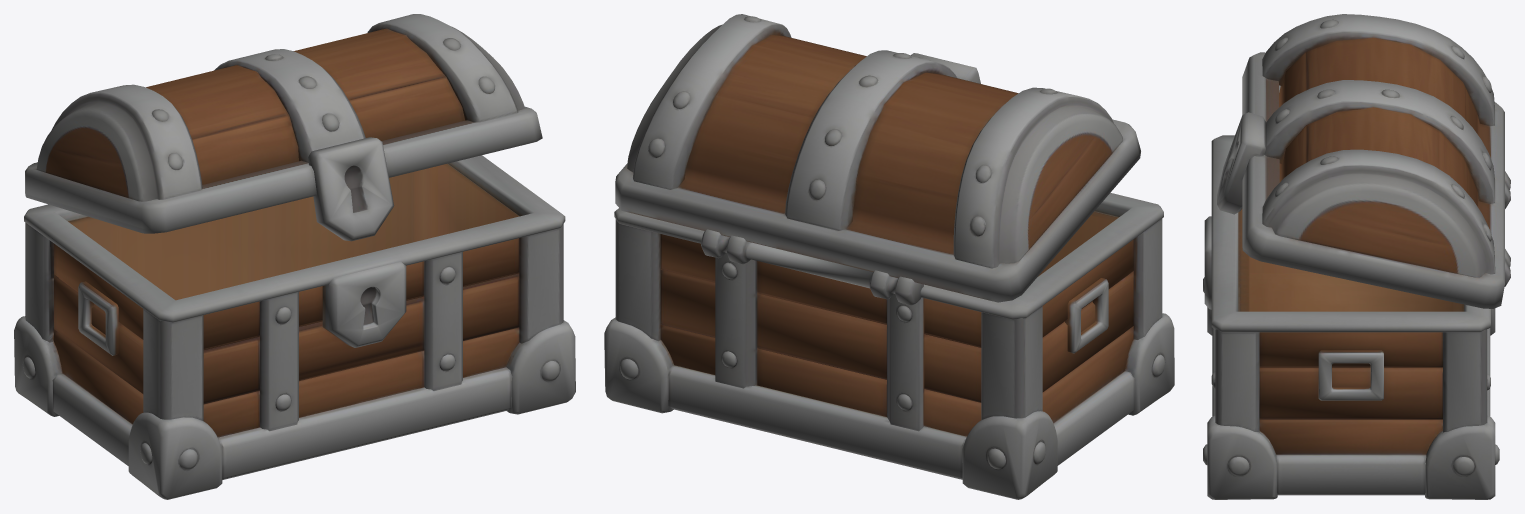
The model's file is chest.glb.
The picture shows the model from 3 angles, left to right: view 1: azimuth 30°, elevation 25°; view 2: azimuth 150°, elevation 25°; view 3: azimuth 270°, elevation 25°; orthographic projection. The views are drawn at different scales.
Parts seen in each view (by area): view 1: chest_bottom, chest_lid; view 2: chest_bottom, chest_lid; view 3: chest_lid, chest_bottom.
Part boxes in pixels (x1,y1,x2,y2): chest_bottom: (14,155,575,499); chest_lid: (25,14,542,241); chest_bottom: (604,193,1174,499); chest_lid: (615,14,1140,302); chest_lid: (1217,14,1504,308); chest_bottom: (1203,135,1510,499).
Size of the model in its own units: 0.9995 by 0.752 by 0.6626.
Materials: 1 (1 with a texture image).
